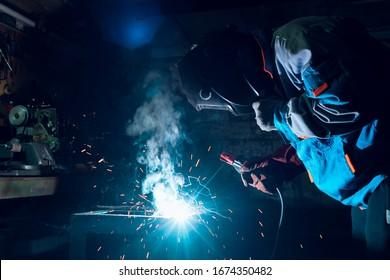gloves: (241, 143, 307, 195)
